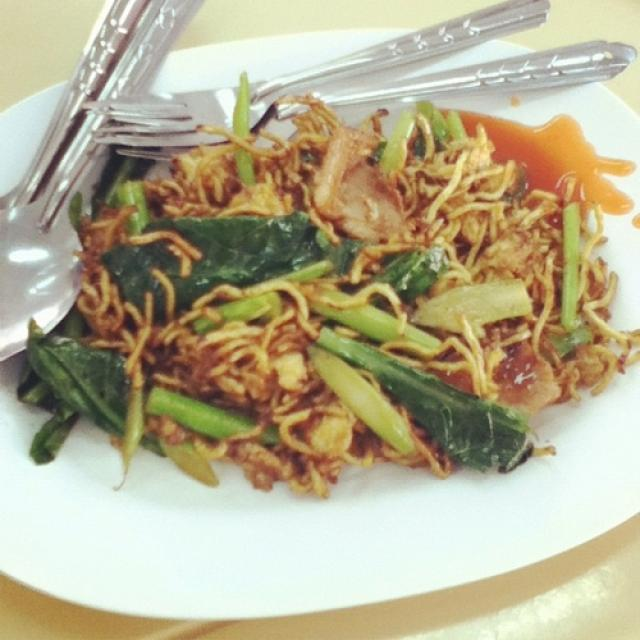面条主食: (36, 18, 612, 564)
